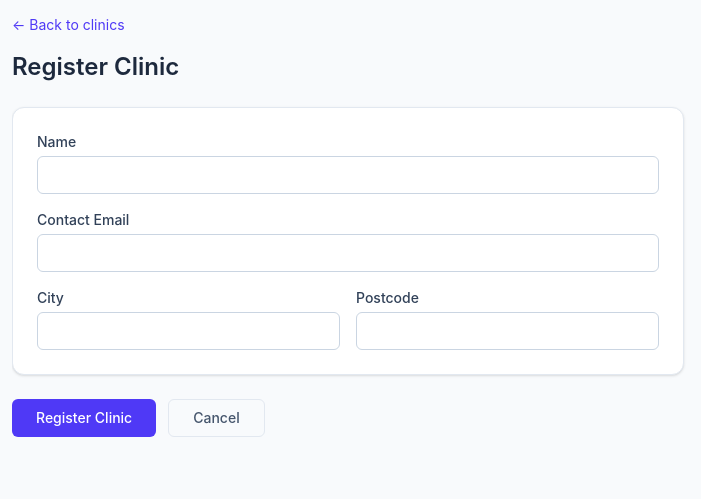
Scenario: NewClinic › shows an error message when registration fails
In the field below "Name": (348, 175) [37, 156, 659, 194], type "Riverside Vets"
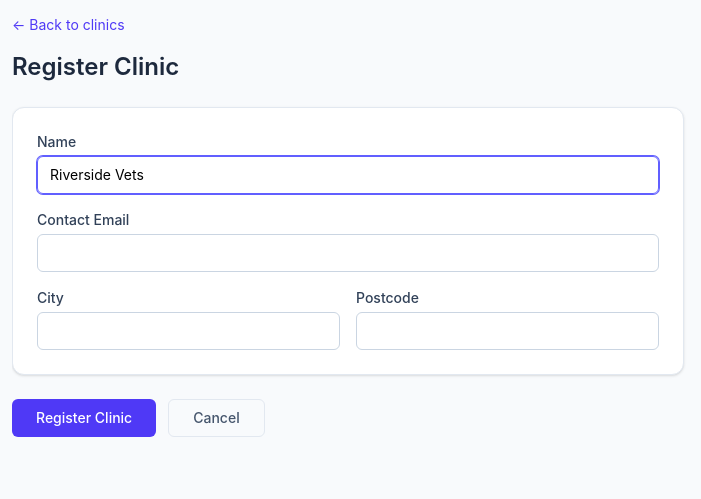
Click the button "Register Clinic": (84, 418) [12, 399, 156, 437]
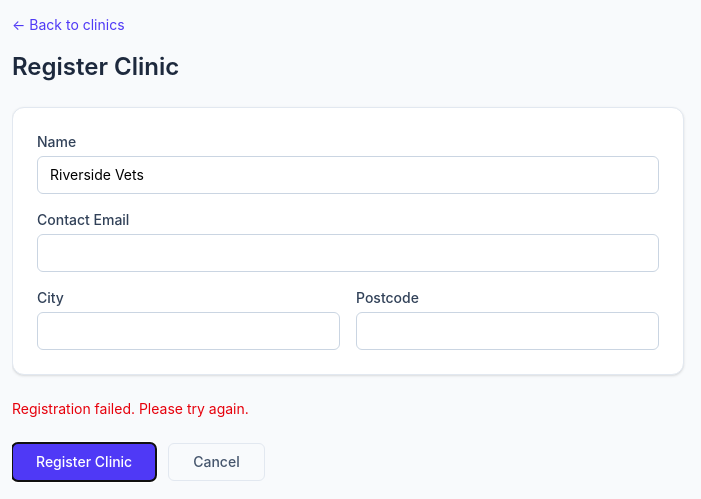
Expected: the text "Registration failed. Please try again." is shown, [12, 400, 249, 417]
